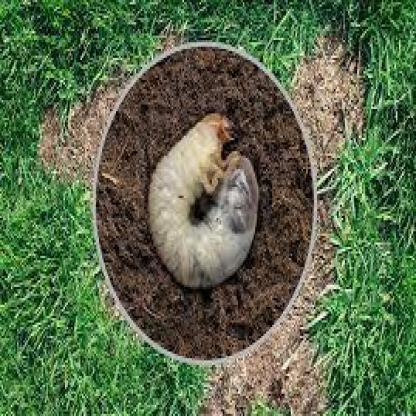root grubs: (149, 114, 260, 289)
